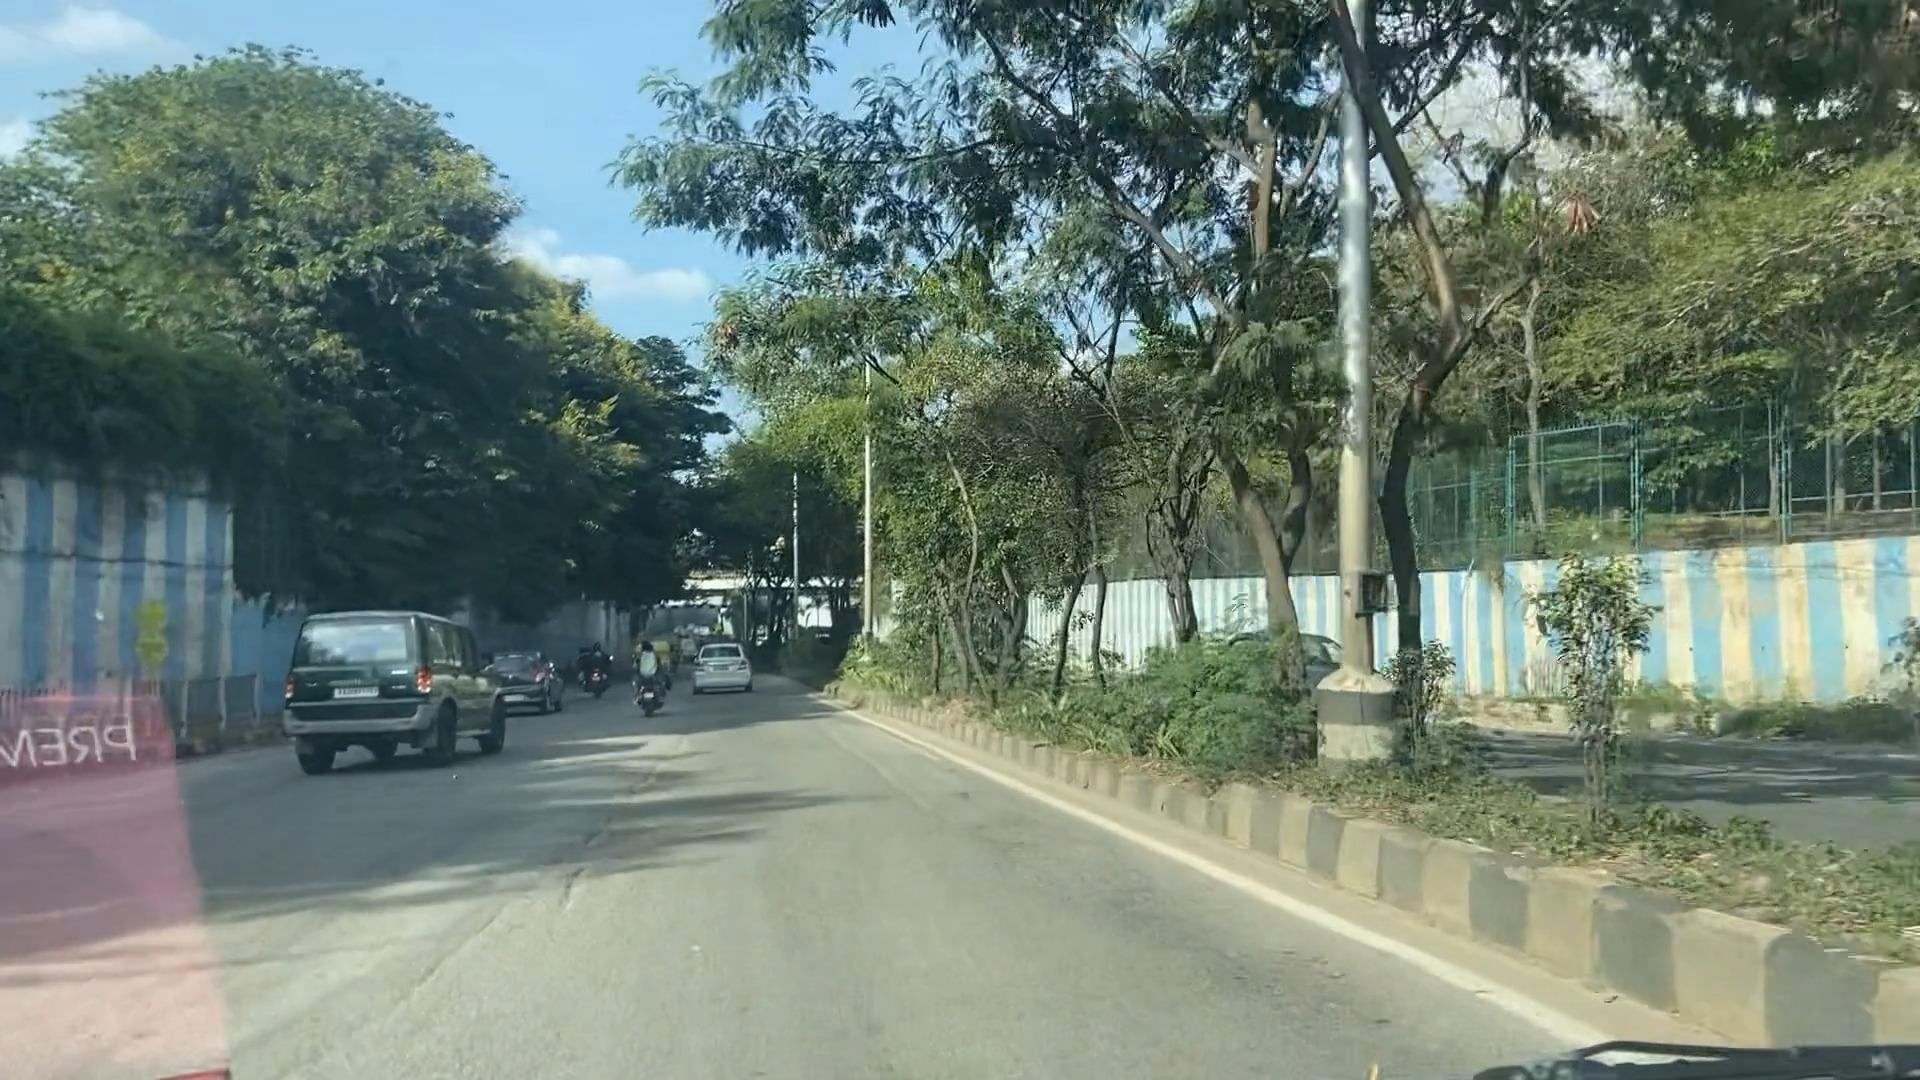RoadDamages: (385, 848, 549, 1034)
